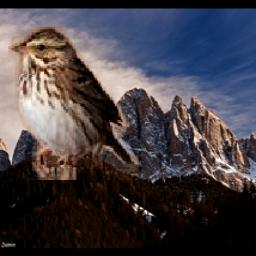Sparrow: (8, 28, 142, 181)
